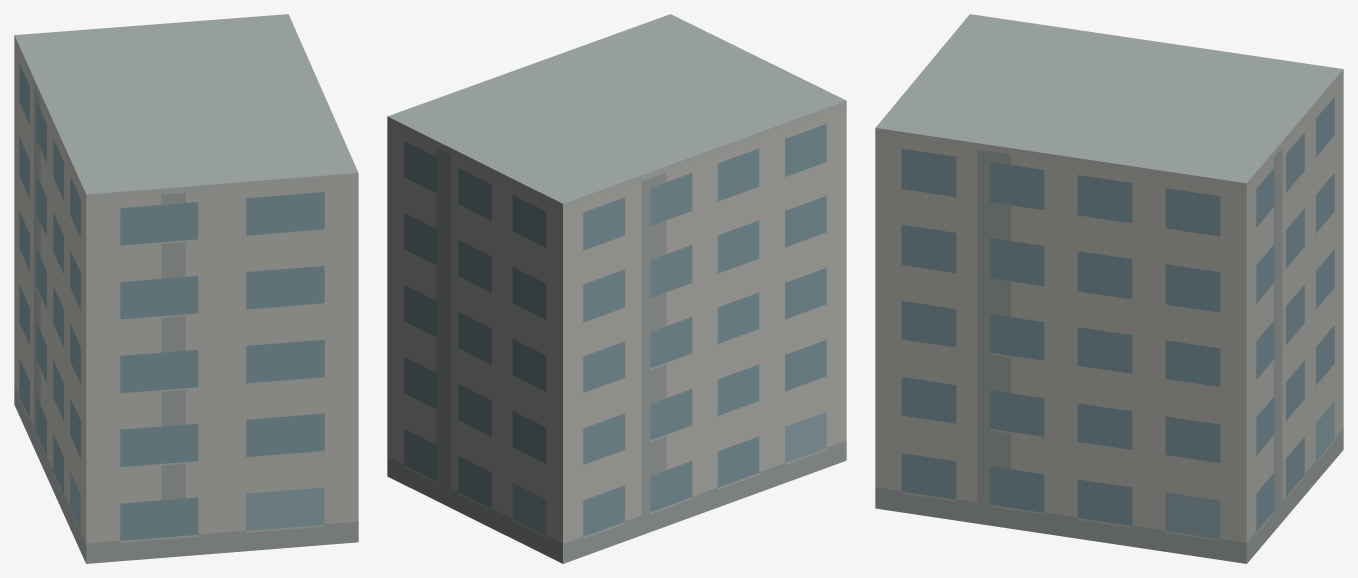
Rendered from survey-upis-32888446.glb.
The picture shows the model from 3 angles, left to right: view 1: azimuth 30°, elevation 25°; view 2: azimuth 150°, elevation 25°; view 3: azimuth 270°, elevation 25°; orthographic projection. The views are drawn at different scales.
Parts seen in each view (by area): view 1: survey-upis-32888446.tmp; view 2: survey-upis-32888446.tmp; view 3: survey-upis-32888446.tmp.
Boxes of the visible parts, x1,y1,x2,y2 form: survey-upis-32888446.tmp: (14, 14, 358, 563); survey-upis-32888446.tmp: (387, 14, 846, 563); survey-upis-32888446.tmp: (875, 14, 1343, 563).
Size of the model in its own units: 13.56 by 14.2 by 15.84.
